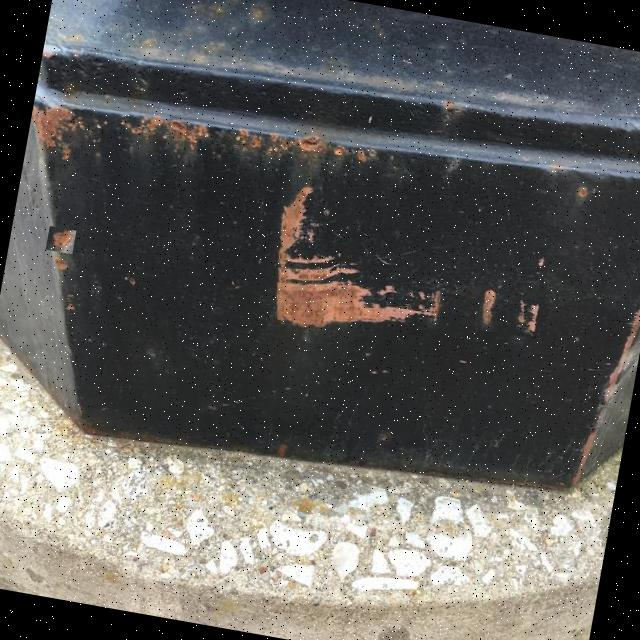Corrosion: (260, 180, 457, 350), (232, 120, 400, 178), (470, 276, 559, 351), (26, 89, 101, 171), (123, 105, 216, 158), (38, 217, 82, 260)
